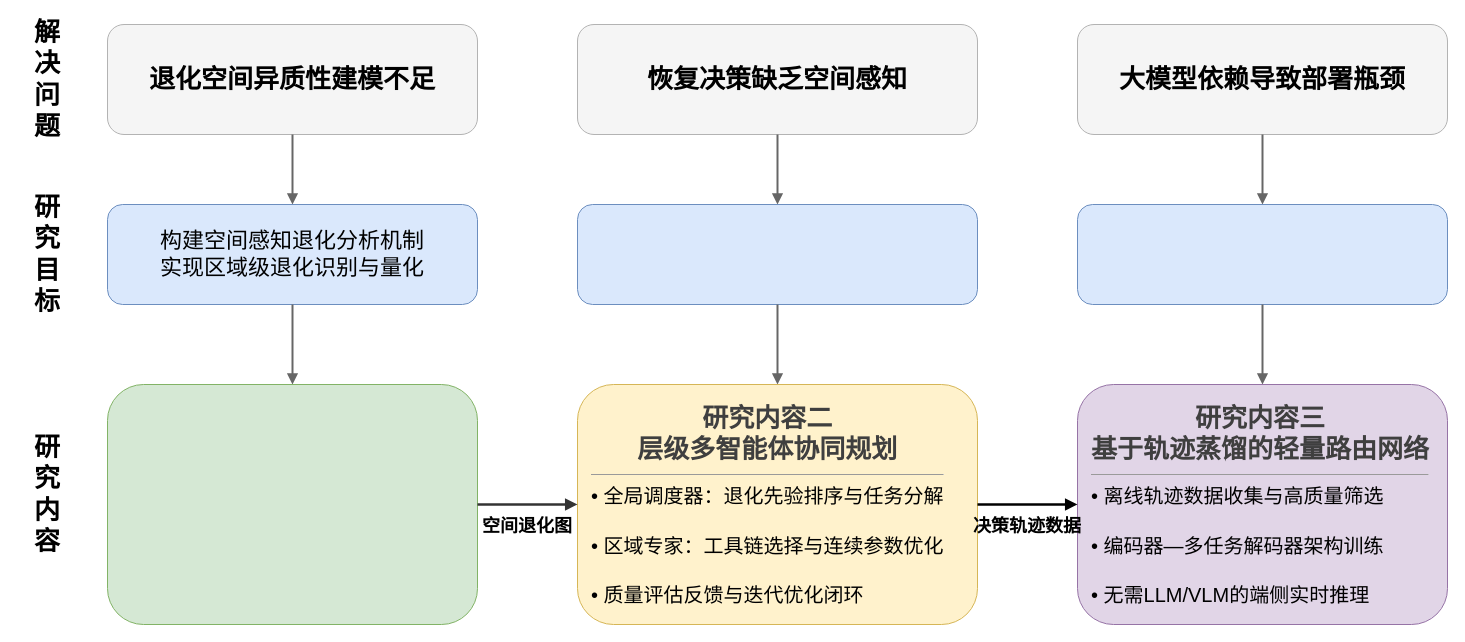
Some shapes in this 1465 by 642 pixel diagram are drawn without their labels. Here are the shapes that lost their labels. From the top down, the centre of each, then its label:
At [777,254]: "构建层级多智能体协同机制 实现区域级恢复规划与参数自适应优化".
At [1262,254]: "构建基于轨迹蒸馏的轻量路由网络 实现高质量的快速推理与边缘部署".
At [292,504]: "研究内容一 空间感知退化分析 • 基于SAM/RobustSAM的零样本区域分割 • 基于VLM的区域级退化类型与程度推理 • 空间退化图构建与一致性优化".
